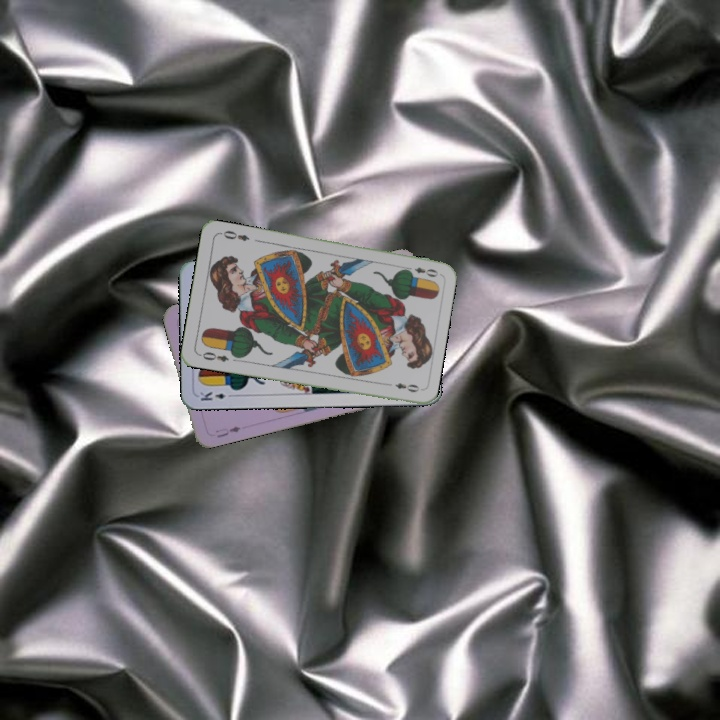EK: (196, 388, 236, 403)
EO: (401, 263, 441, 280), (195, 348, 231, 365)
EU: (211, 422, 243, 440)
